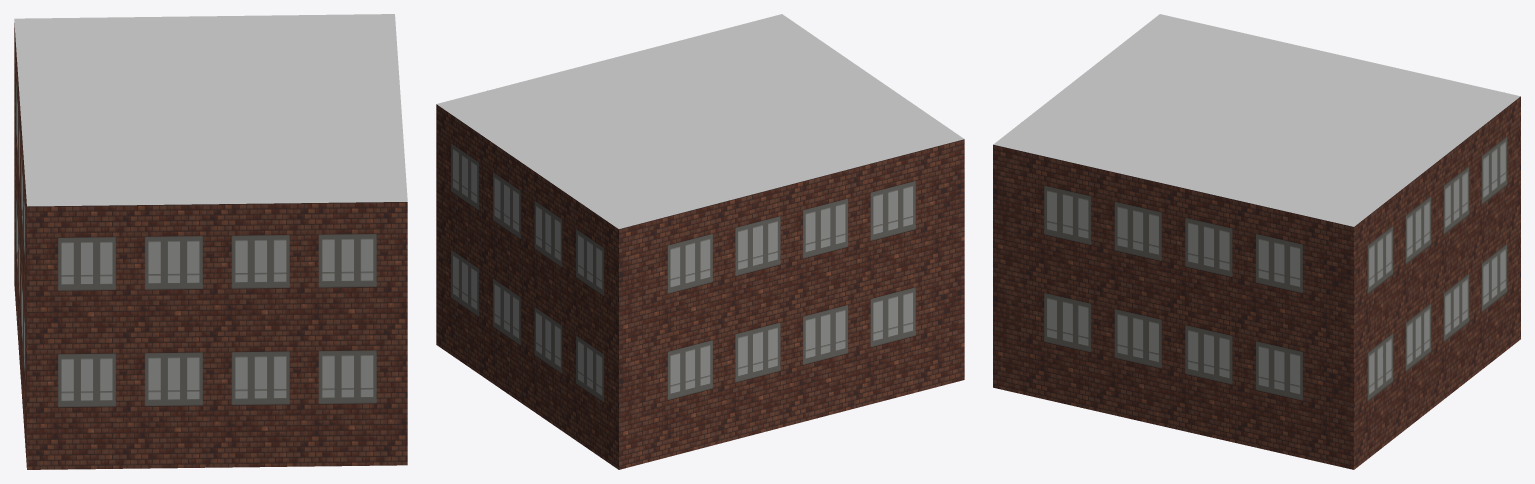
File: building-0-0-720.dae
3 views of the same model, side by side, from view 1: azimuth 30°, elevation 25°; view 2: azimuth 150°, elevation 25°; view 3: azimuth 270°, elevation 25° (orthographic). The views are drawn at different scales.
Parts seen in each view (by area): view 1: geopipeinode35ma_ADa (×3); view 2: geopipeinode35ma_ADa (×3); view 3: geopipeinode35ma_ADa (×3).
Boxes of the visible parts, x1,y1,x2,y2 form: geopipeinode35ma_ADa (×3): (14, 14, 407, 469); geopipeinode35ma_ADa (×3): (436, 14, 964, 469); geopipeinode35ma_ADa (×3): (993, 14, 1520, 469).
Size of the model in its own units: 17.48 by 18.31 by 9.3.
